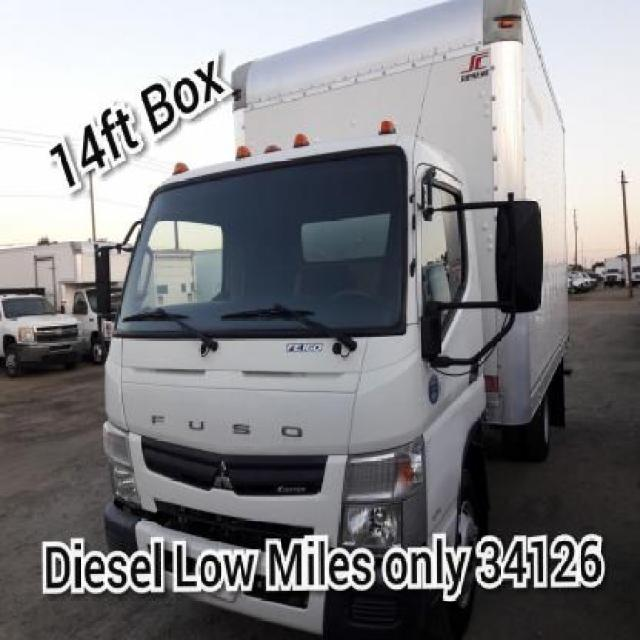truck: (104, 1, 567, 640)
